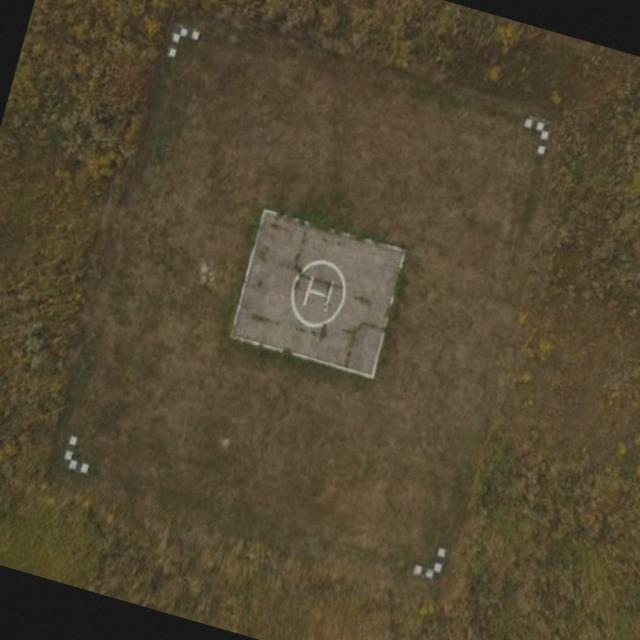helipad: (286, 258, 348, 329)
